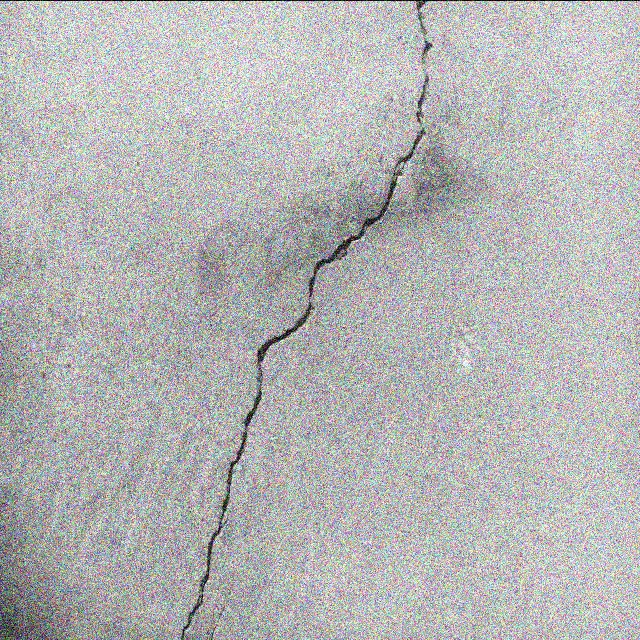SurfaceCrack: (165, 0, 471, 638)
